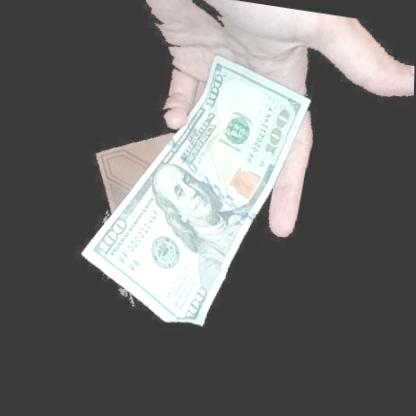one_hundred-front: (68, 35, 319, 342)
